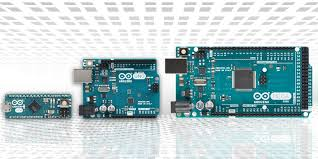arduino: (70, 51, 170, 115)
